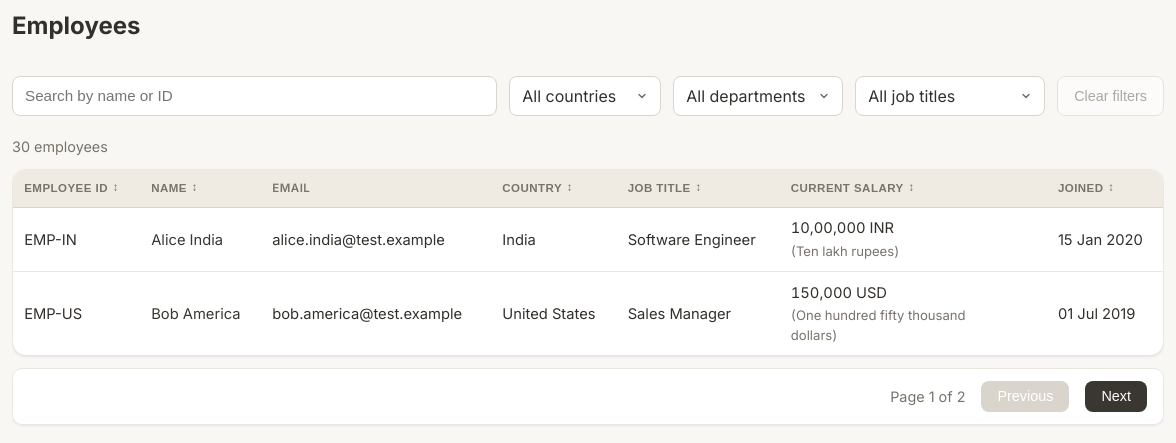
Test: EmployeesPage › loads page one, then requests and shows page two on Next
This screenshot has width=1176, height=443.
Check: the button "Alice India" is shown, box x1=151 y1=228 x2=223 y2=251
Check: the text "Page 1 of 2" is shown, box x1=890 y1=386 x2=966 y2=407
What coordinates should you click on to do the following:
click the button "Next"
I would click on:
 (1116, 396)
Its box is x1=1085 y1=381 x2=1147 y2=412.
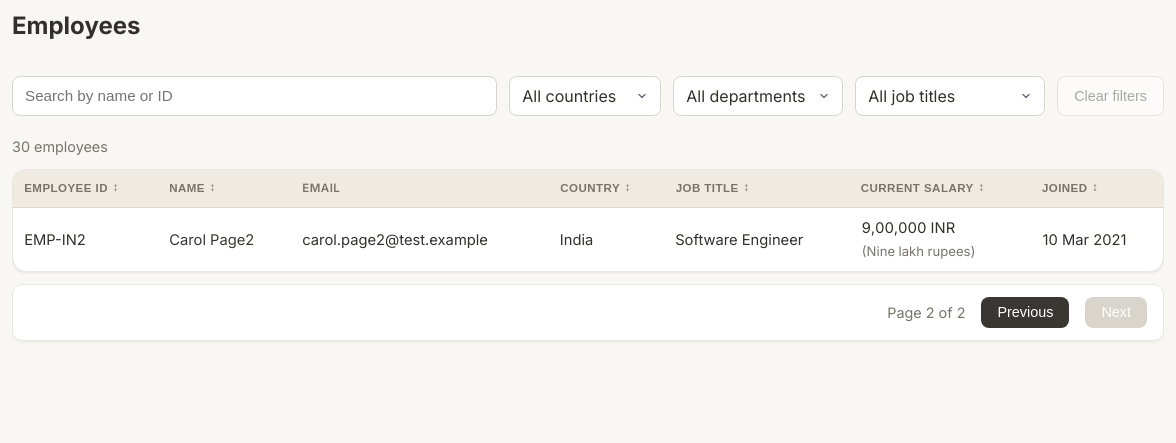
Check: the button "Carol Page2" is shown, box x1=169 y1=228 x2=254 y2=251
Check: the text "Page 2 of 2" is shown, box x1=887 y1=302 x2=965 y2=323
